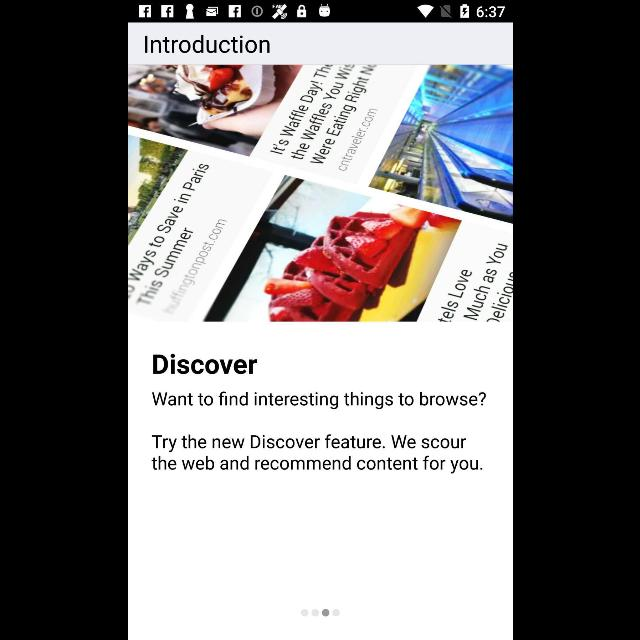image: (128, 65, 512, 322)
pageindicator: (300, 609, 340, 617)
text: (150, 434, 482, 474), (151, 391, 485, 409), (144, 34, 270, 54), (152, 353, 256, 375)
uppertaskbar: (128, 1, 512, 23)
